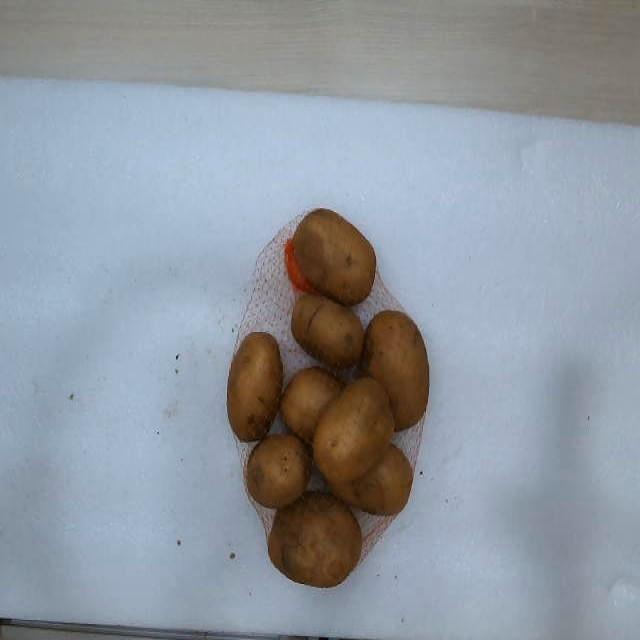potato: (268, 492, 361, 588), (314, 377, 395, 484), (294, 208, 376, 305), (361, 312, 428, 429), (228, 332, 282, 442), (330, 443, 412, 514), (291, 297, 365, 368), (246, 435, 311, 508), (280, 367, 342, 442)
